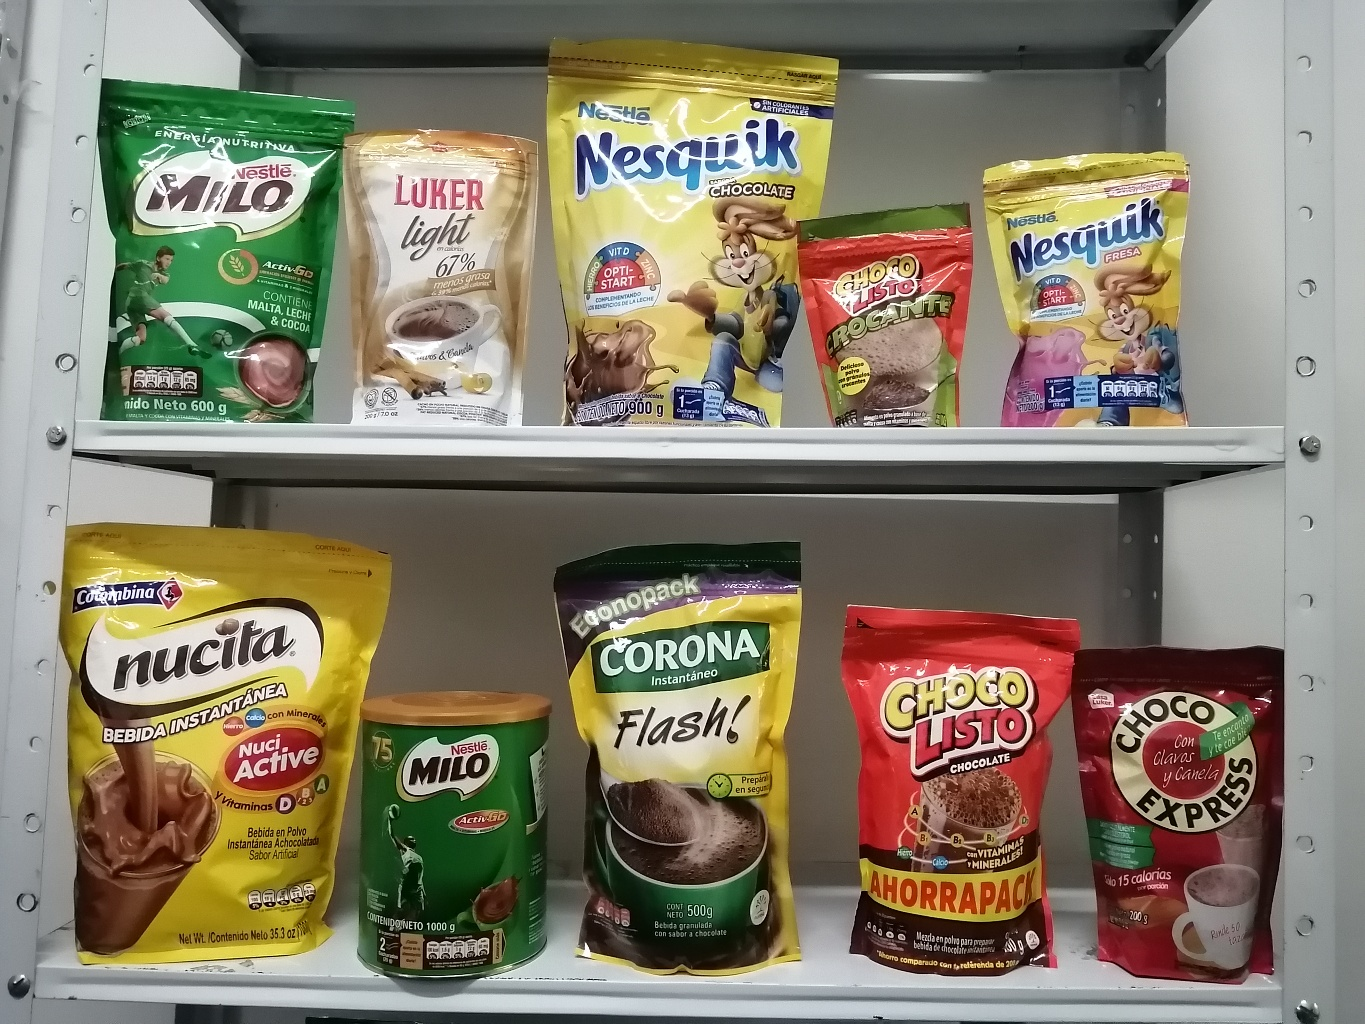COL0170102DYP10000: (776, 186, 990, 433)
COL0170103DYP40000: (831, 593, 1087, 982)
COL0170305DYP20000: (958, 130, 1224, 440)
